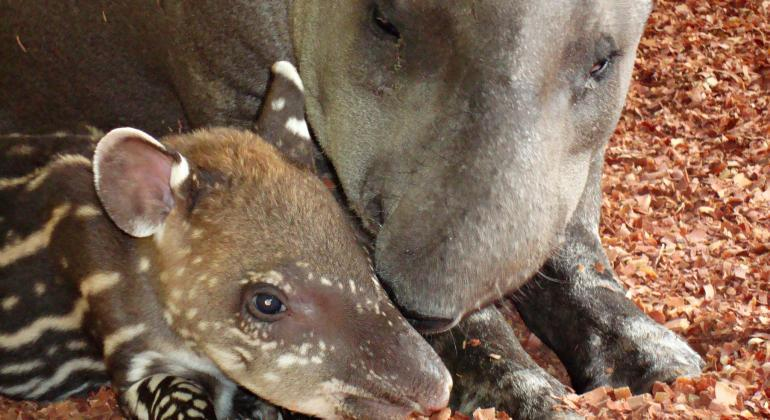Anta: (9, 4, 720, 413), (5, 64, 462, 415)
